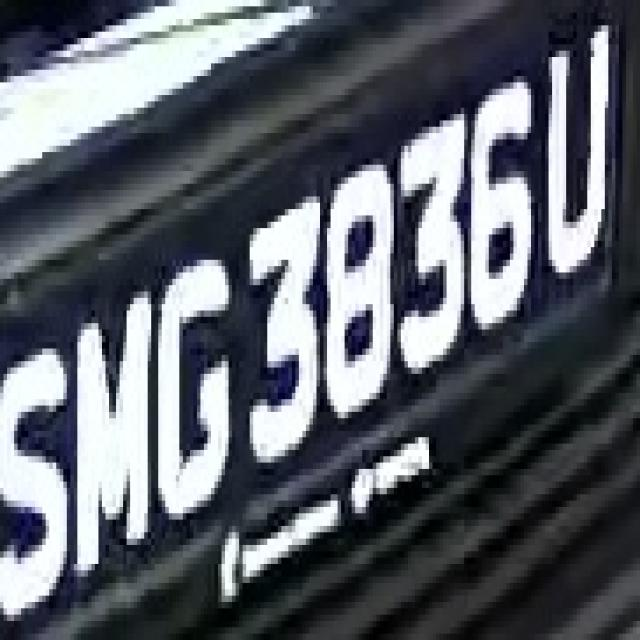3: (236, 183, 320, 462), (383, 89, 464, 374)
6: (457, 51, 545, 355)
8: (316, 146, 401, 444)
G: (158, 222, 243, 526)
M: (67, 279, 158, 570)
S: (10, 298, 70, 640)
U: (541, 12, 612, 278)
